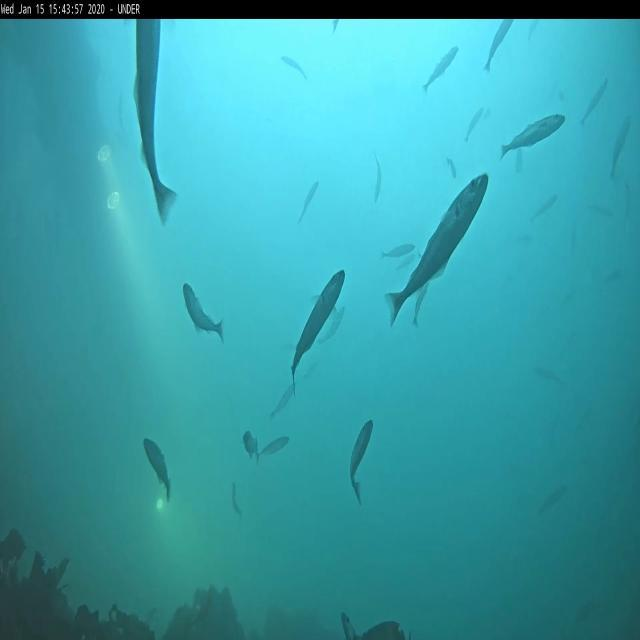fish: (388, 174, 488, 325), (134, 22, 178, 226), (290, 267, 347, 384), (502, 114, 565, 156), (183, 285, 226, 341), (350, 418, 372, 505), (143, 438, 172, 501), (422, 46, 460, 94), (484, 20, 514, 74), (612, 116, 632, 178), (582, 78, 608, 124), (320, 306, 346, 344), (268, 384, 296, 418), (412, 282, 430, 326), (300, 184, 322, 219), (256, 437, 289, 460), (533, 196, 558, 221), (381, 242, 414, 259), (282, 55, 310, 74), (467, 109, 484, 138), (394, 252, 416, 272), (230, 484, 242, 520), (341, 612, 357, 638), (244, 428, 258, 456), (374, 157, 382, 200), (446, 157, 456, 177), (330, 18, 340, 31)
